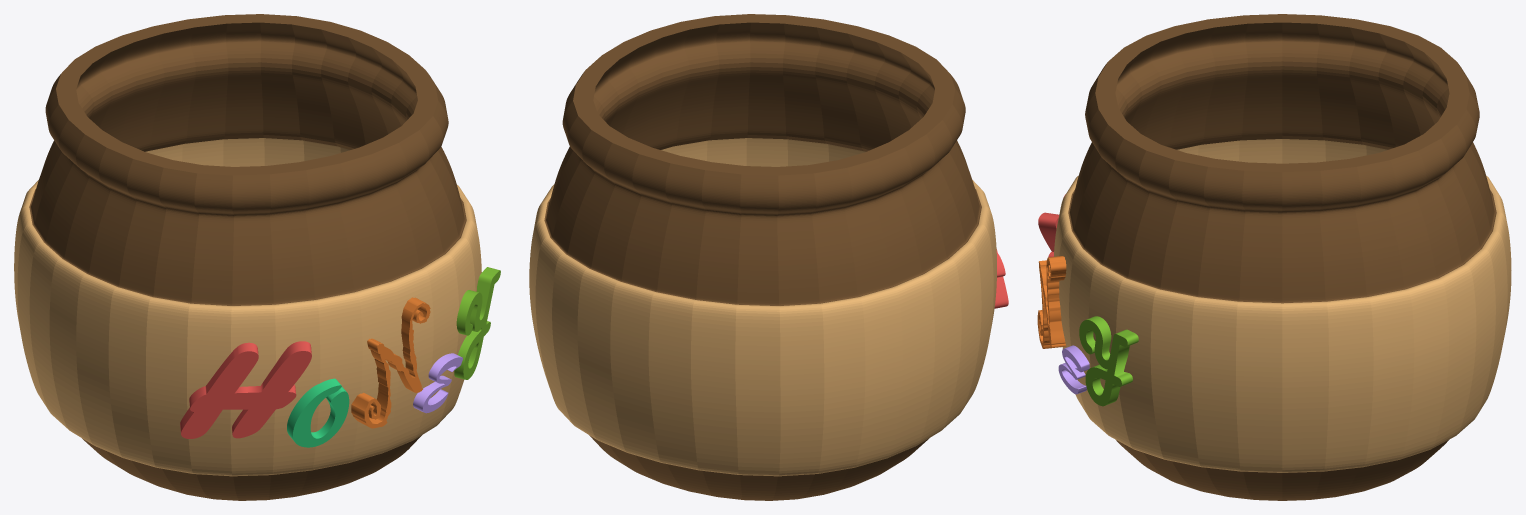
Rendered from Honey Kavanozu.fbx.
The picture shows the model from 3 angles, left to right: view 1: azimuth 30°, elevation 25°; view 2: azimuth 150°, elevation 25°; view 3: azimuth 270°, elevation 25°; orthographic projection.
Visible parts, largest first — view 1: Cube, Text, Text.002, Text.004, Text.001, Text.003; view 2: Cube; view 3: Cube, Text.004, Text.002, Text.003, Text.
Part boxes in pixels (bbox=[...]): Cube: bbox=[14, 14, 481, 500]; Text: bbox=[180, 341, 311, 438]; Text.002: bbox=[351, 297, 430, 428]; Text.004: bbox=[454, 267, 500, 379]; Text.001: bbox=[287, 378, 349, 447]; Text.003: bbox=[413, 353, 462, 413]; Cube: bbox=[529, 14, 996, 500]; Cube: bbox=[1053, 14, 1511, 500]; Text.004: bbox=[1079, 316, 1138, 406]; Text.002: bbox=[1037, 256, 1066, 348]; Text.003: bbox=[1058, 345, 1089, 394]; Text: bbox=[1038, 194, 1065, 257].
Bounding box in the file's own units: 399 × 357 × 413.
